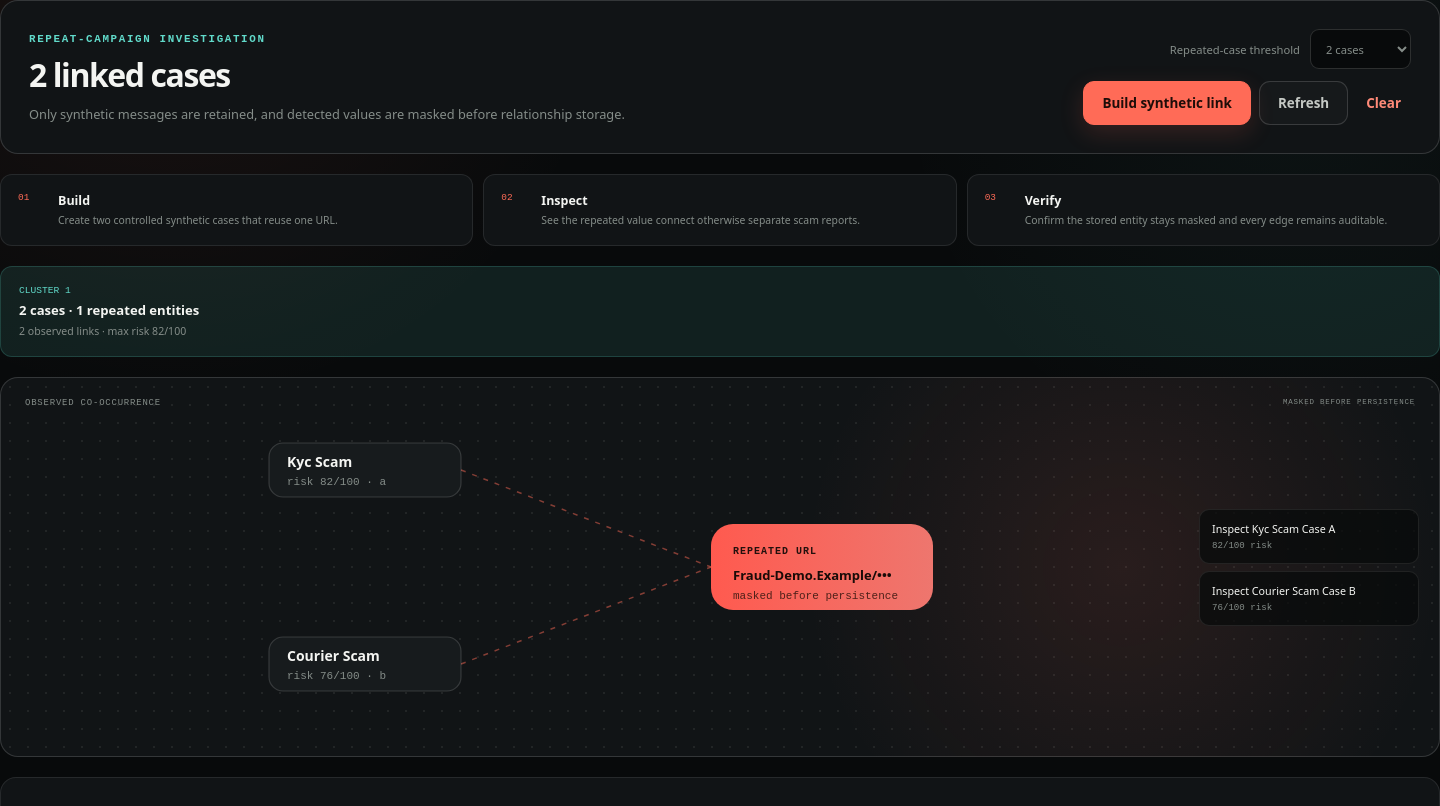
Test: RelationshipWorkbench › renders masked relationship evidence as a graph and accessible table
Expected: the heading "2 linked cases" is shown, [29,53,230,96]
Click the button "Inspect kyc scam case a 82/100 risk".
click(1309, 536)  # box [1199,509,1419,564]
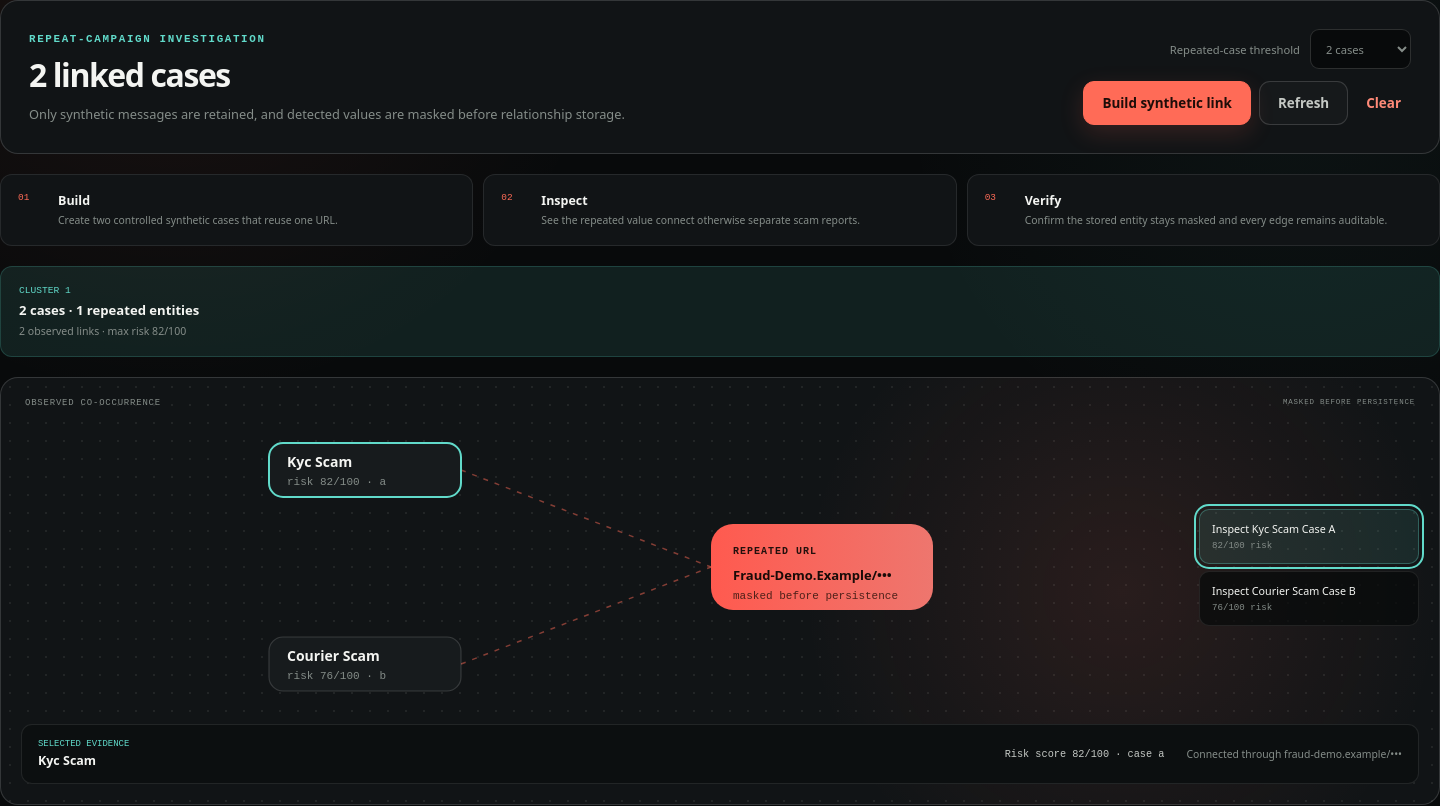
Expected: the text "Selected evidence" is shown, [38,739,129,749]
Expected: the text "Risk score 82/100 · case a" is shown, [1005,748,1164,760]
